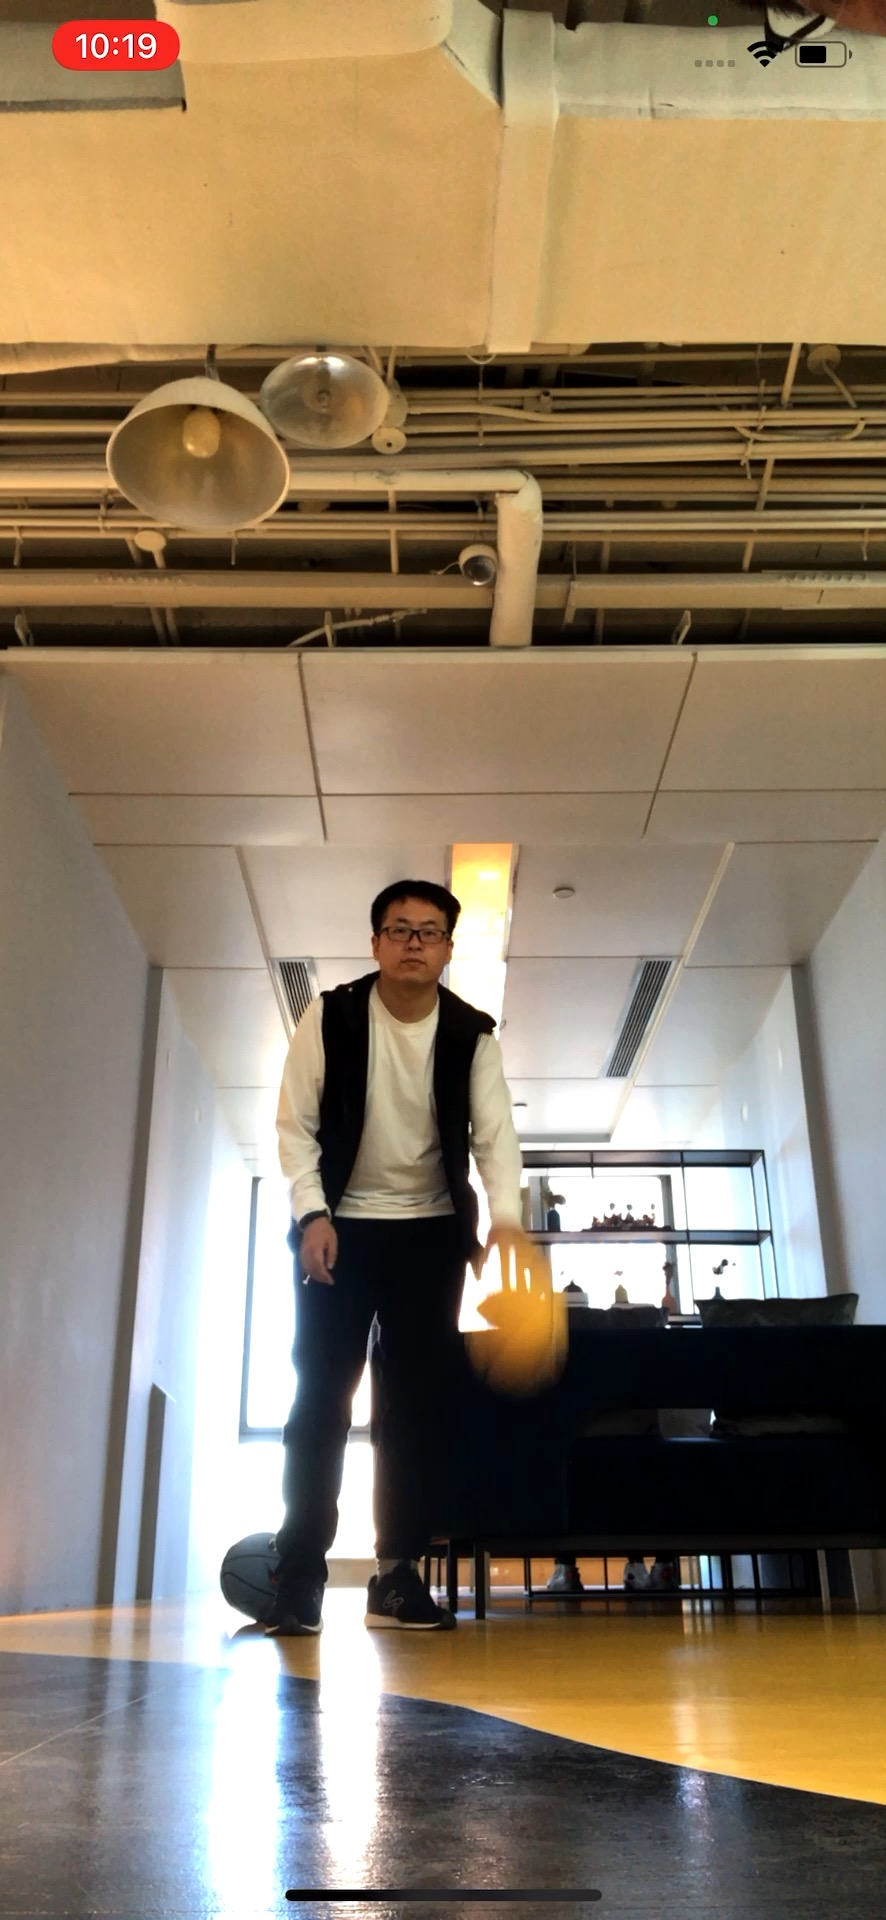ball: (472, 1286, 571, 1390), (217, 1533, 288, 1627)
